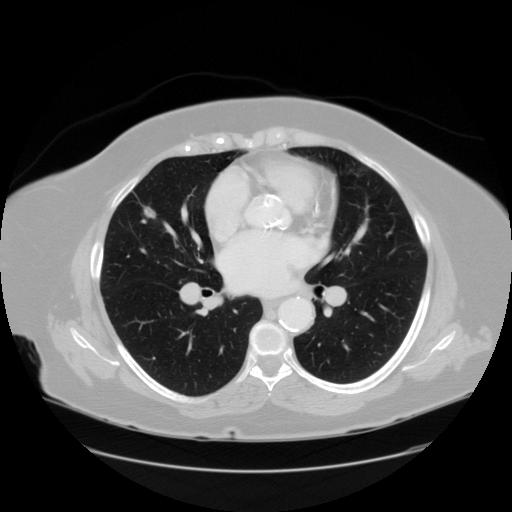nodule: (141, 204, 158, 221)
